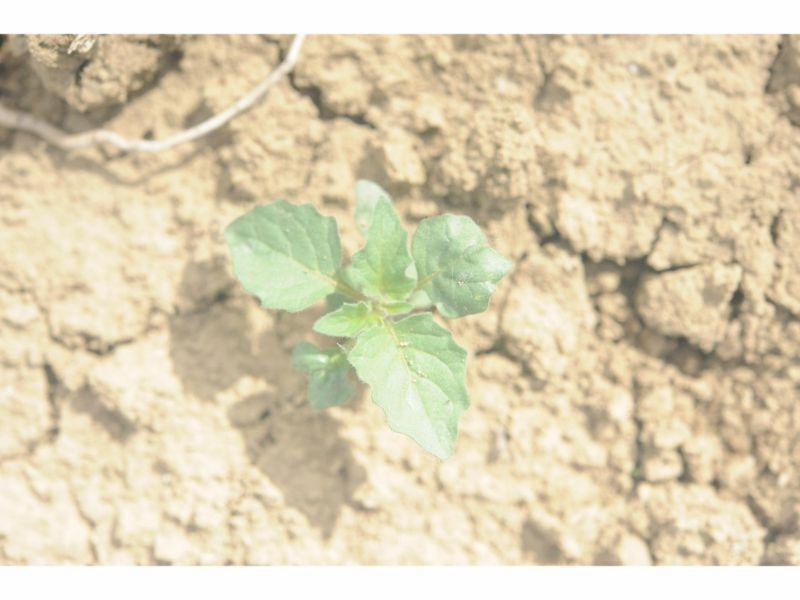nightshade: (222, 181, 514, 460)
